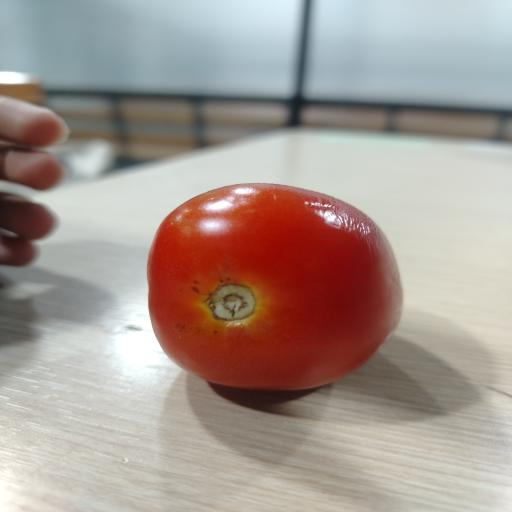spoiled: (148, 184, 402, 390)
